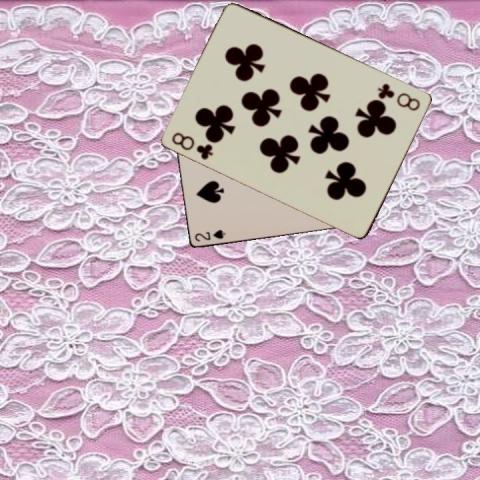2s: (191, 226, 227, 243)
8c: (375, 80, 423, 113), (168, 129, 214, 161)
